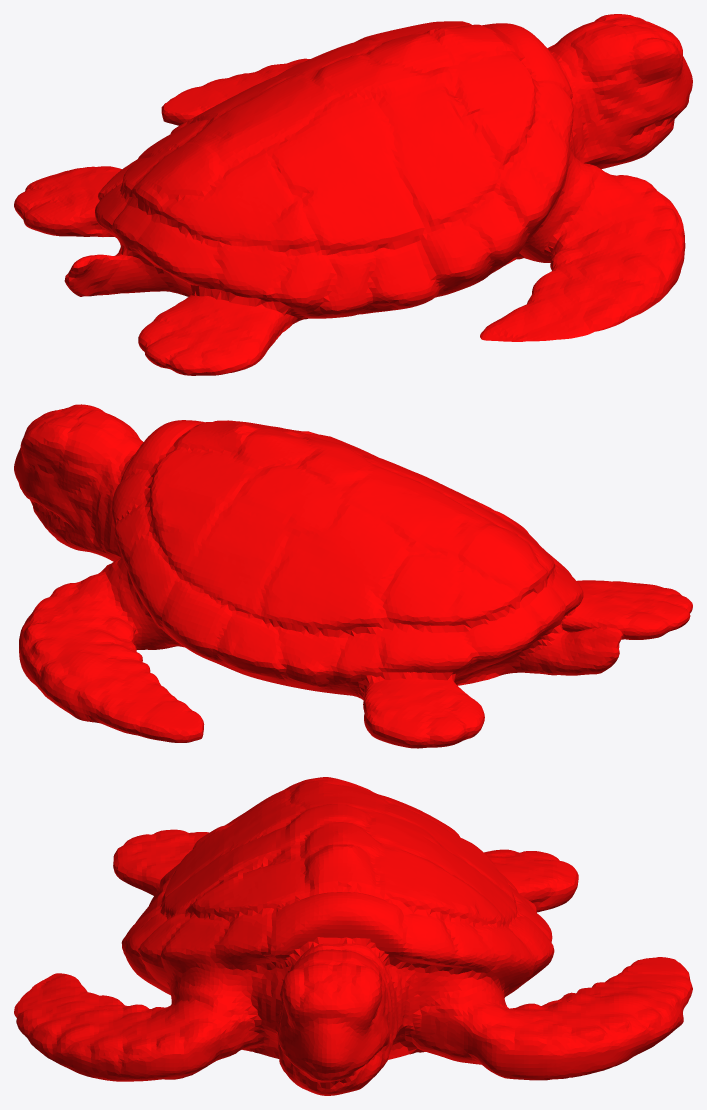
The model's file is mini-turtle.glb.
3 renders of one model, top to bottom at view 1: azimuth 30°, elevation 25°; view 2: azimuth 150°, elevation 25°; view 3: azimuth 270°, elevation 25°, orthographic. The views are drawn at different scales.
Visible parts, largest first — view 1: turtle.step_fil1; view 2: turtle.step_fil1; view 3: turtle.step_fil1.
Part boxes in pixels (box(x1,y1,x2,y2)): turtle.step_fil1: box(14, 14, 692, 375); turtle.step_fil1: box(14, 404, 692, 748); turtle.step_fil1: box(14, 777, 692, 1095).
Bounding box in the file's own units: 0.0531 × 0.0145 × 0.05.
